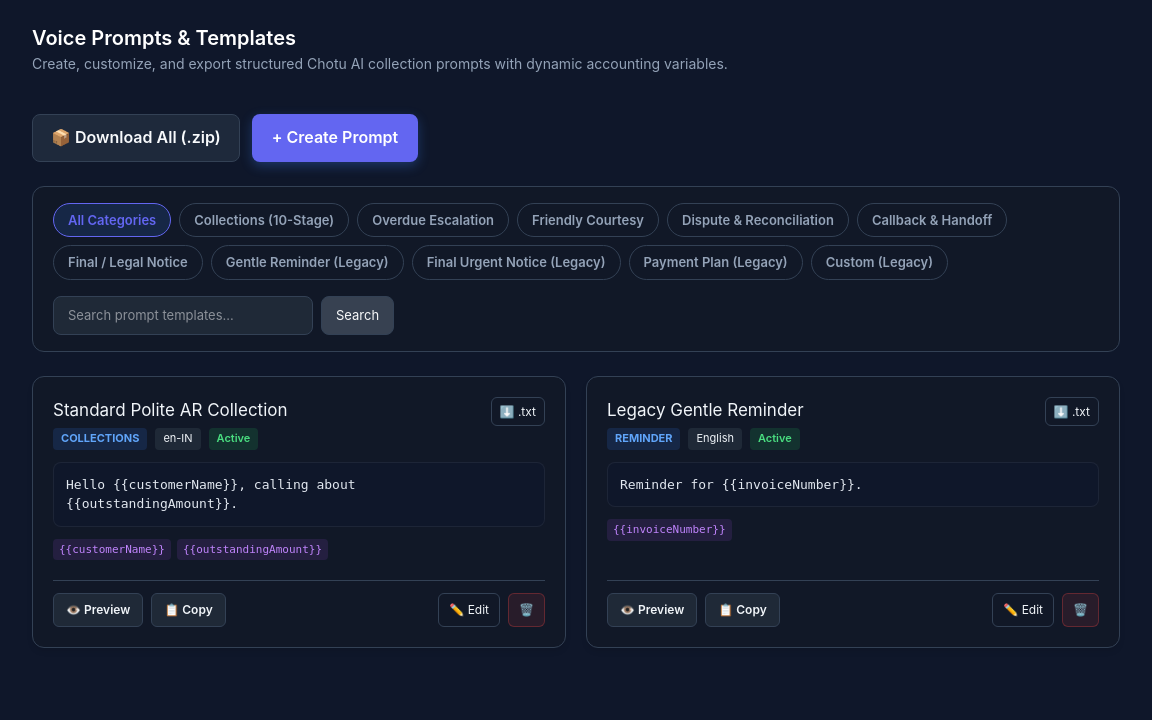
Test: P2-04 Chotu Voice Prompts & Export Fixes › displays inline error when prompt download fails without using alert()
Expected: the heading "Standard Polite AR Collection" is shown, [53,397,288,424]
Click the button titled "Download .txt" in the row of "Standard Polite AR Collection": {"x": 518, "y": 412} [491,397,545,426]
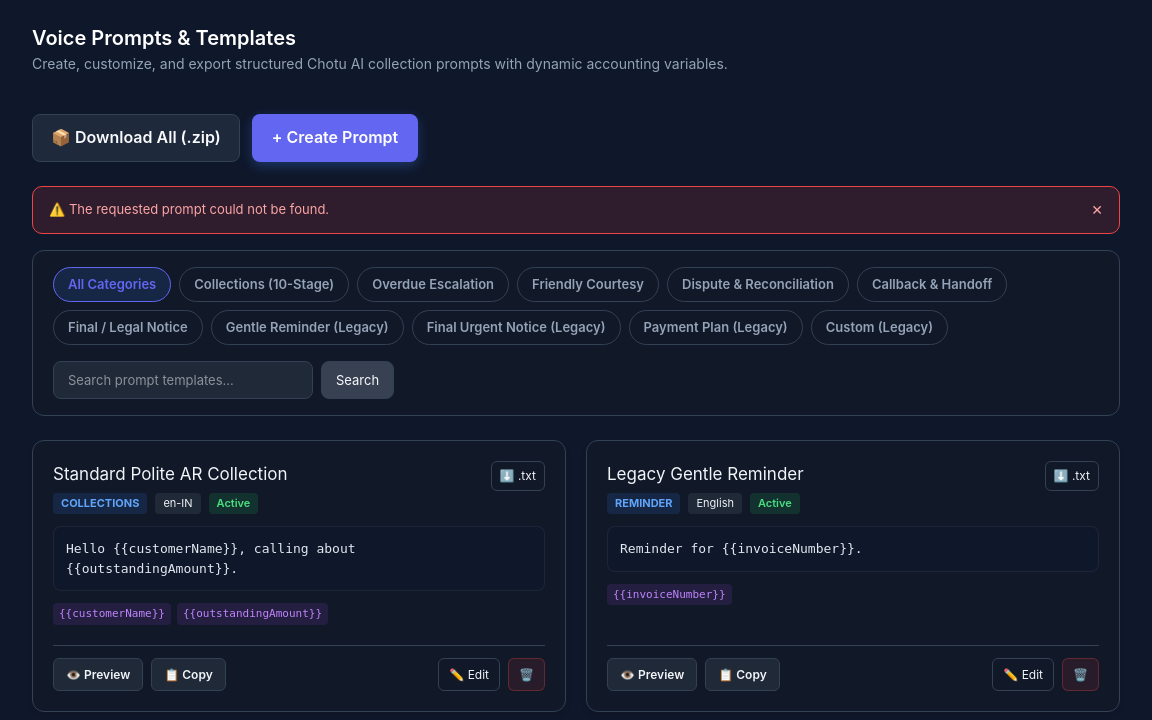
Result: the message shows "requested prompt could not be found" at [69,201,329,217]
